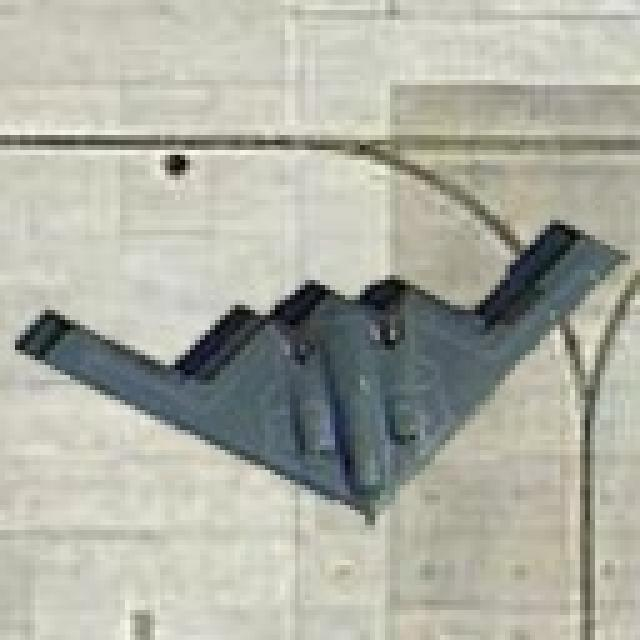B-2_TopDown: (0, 215, 630, 530)
